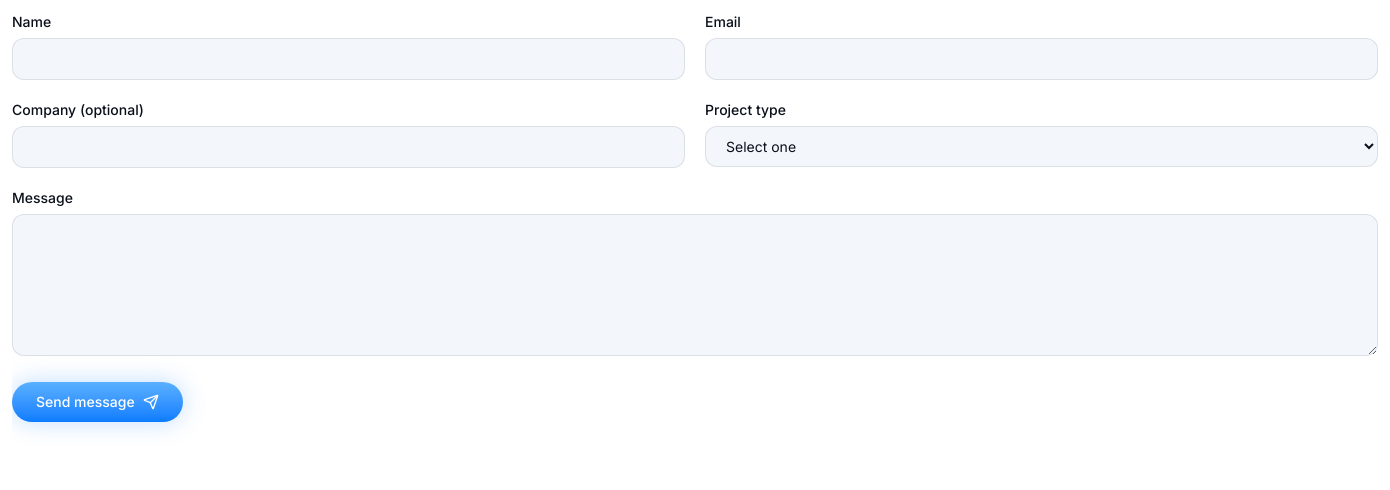
Scenario: ContactForm › shows a generic error when the server fails, and keeps the form
The image size is (1390, 490).
Type "Ada Lovelace" into the field labelled "Name".
click(348, 59); type("Ada Lovelace")  # box [12,38,685,80]
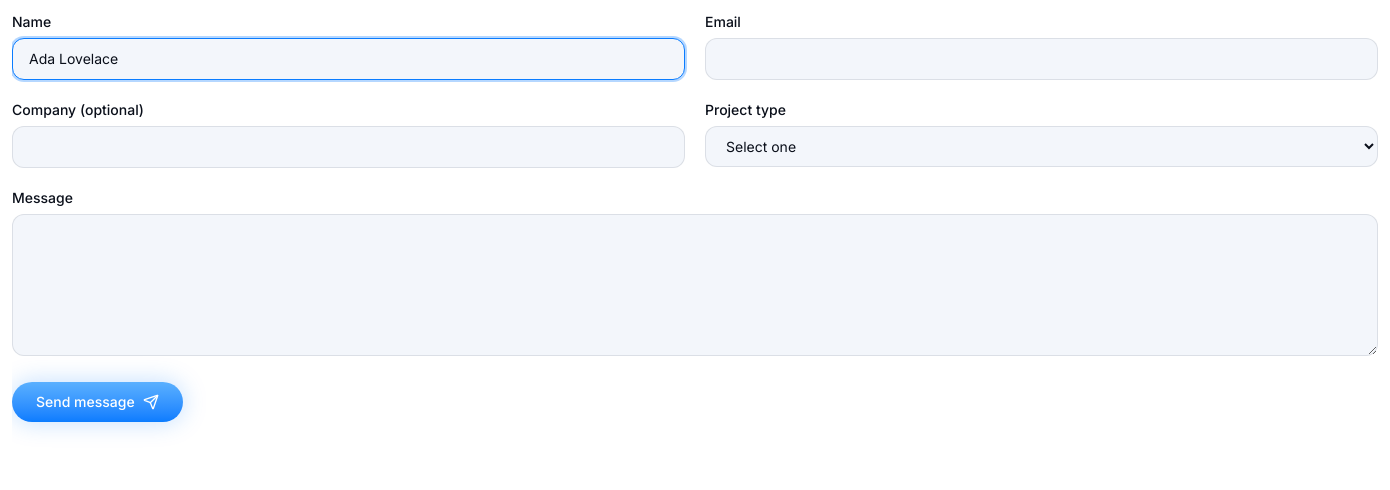
Type "ada@example.com" into the field labelled "Email".
click(1042, 59); type("ada@example.com")  # box [705,38,1378,80]
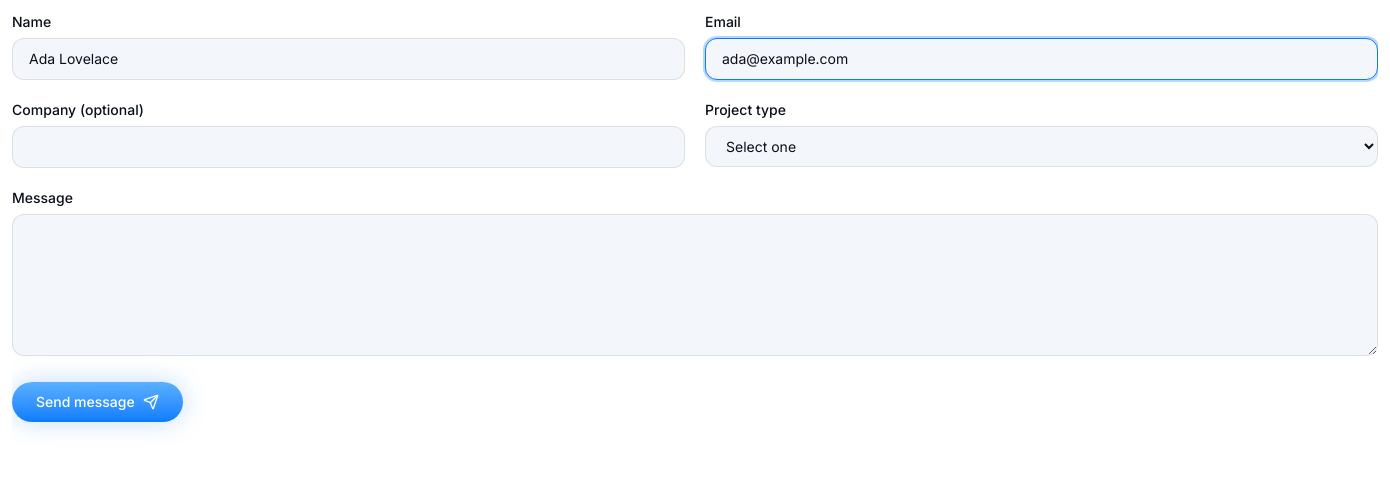
Select "Web app" in the dropdown labelled "Project type" at point(1042, 146), box [705,126,1378,167]
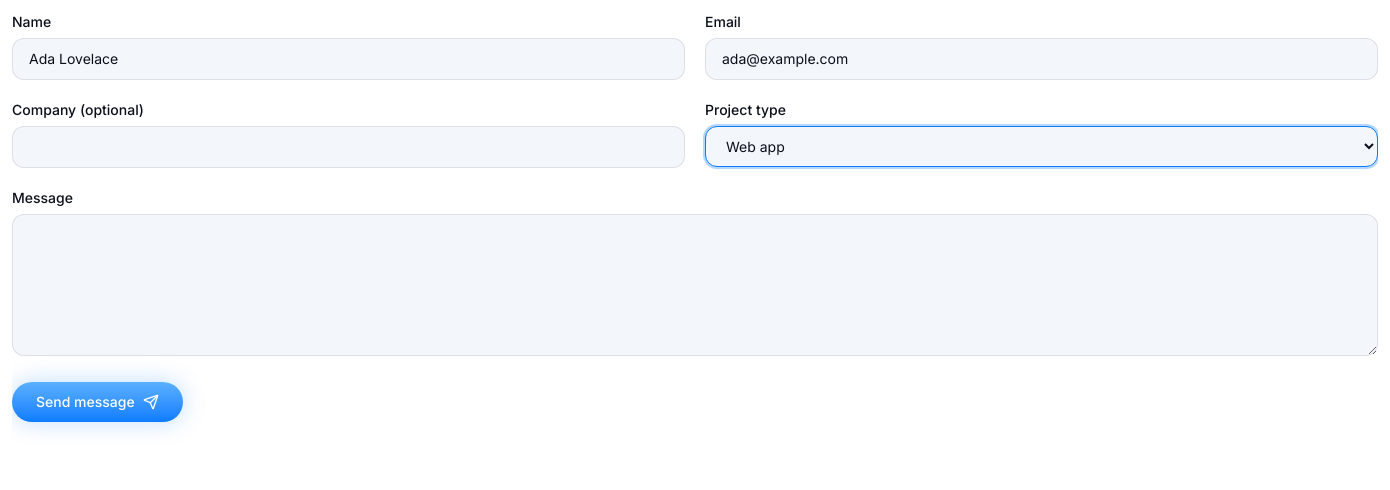
Type "We need a customer portal built." into the text box labelled "Message".
click(695, 285); type("We need a customer portal built.")  # box [12,214,1378,356]
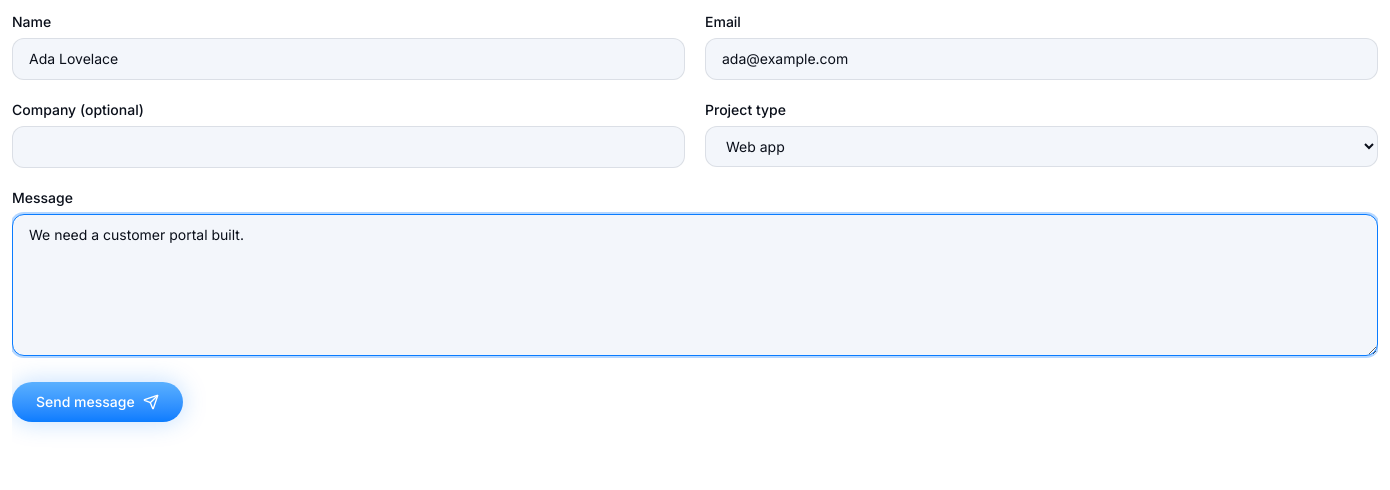
Click the button "Send message".
click(97, 402)  # box [12,382,183,422]
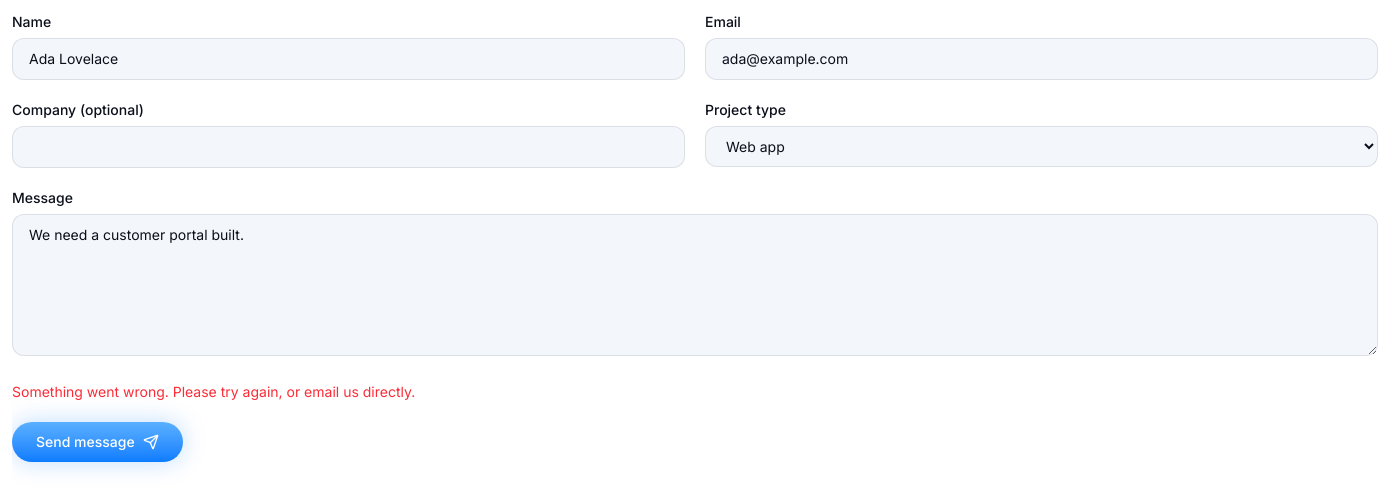
expect the message reads "Something went wrong. Please try again, or email us directly.": met, box [12,383,415,400]
